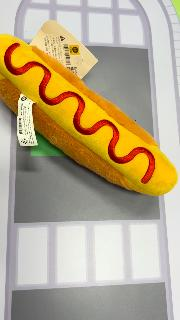hotdog: (2, 34, 178, 198)
